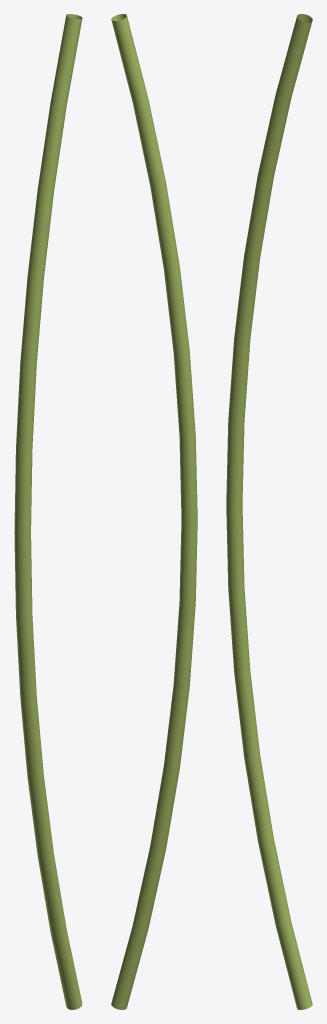
The model's file is flower_lili2.fbx.
3 renders of one model, left to right at view 1: azimuth 30°, elevation 25°; view 2: azimuth 150°, elevation 25°; view 3: azimuth 330°, elevation 25°, orthographic.
Parts seen in each view (by area): view 1: polySurface447; view 2: polySurface447; view 3: polySurface447.
Part boxes in pixels (x1=…): polySurface447: x1=14, y1=14, x2=82, y2=1009; polySurface447: x1=111, y1=14, x2=197, y2=1009; polySurface447: x1=226, y1=14, x2=312, y2=1009.
Size of the model in its own units: 23.45 by 297 by 9.65.
